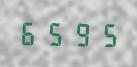five: (43, 19, 67, 46), (93, 20, 117, 47)
nine: (68, 20, 92, 47)
six: (18, 19, 42, 46)
